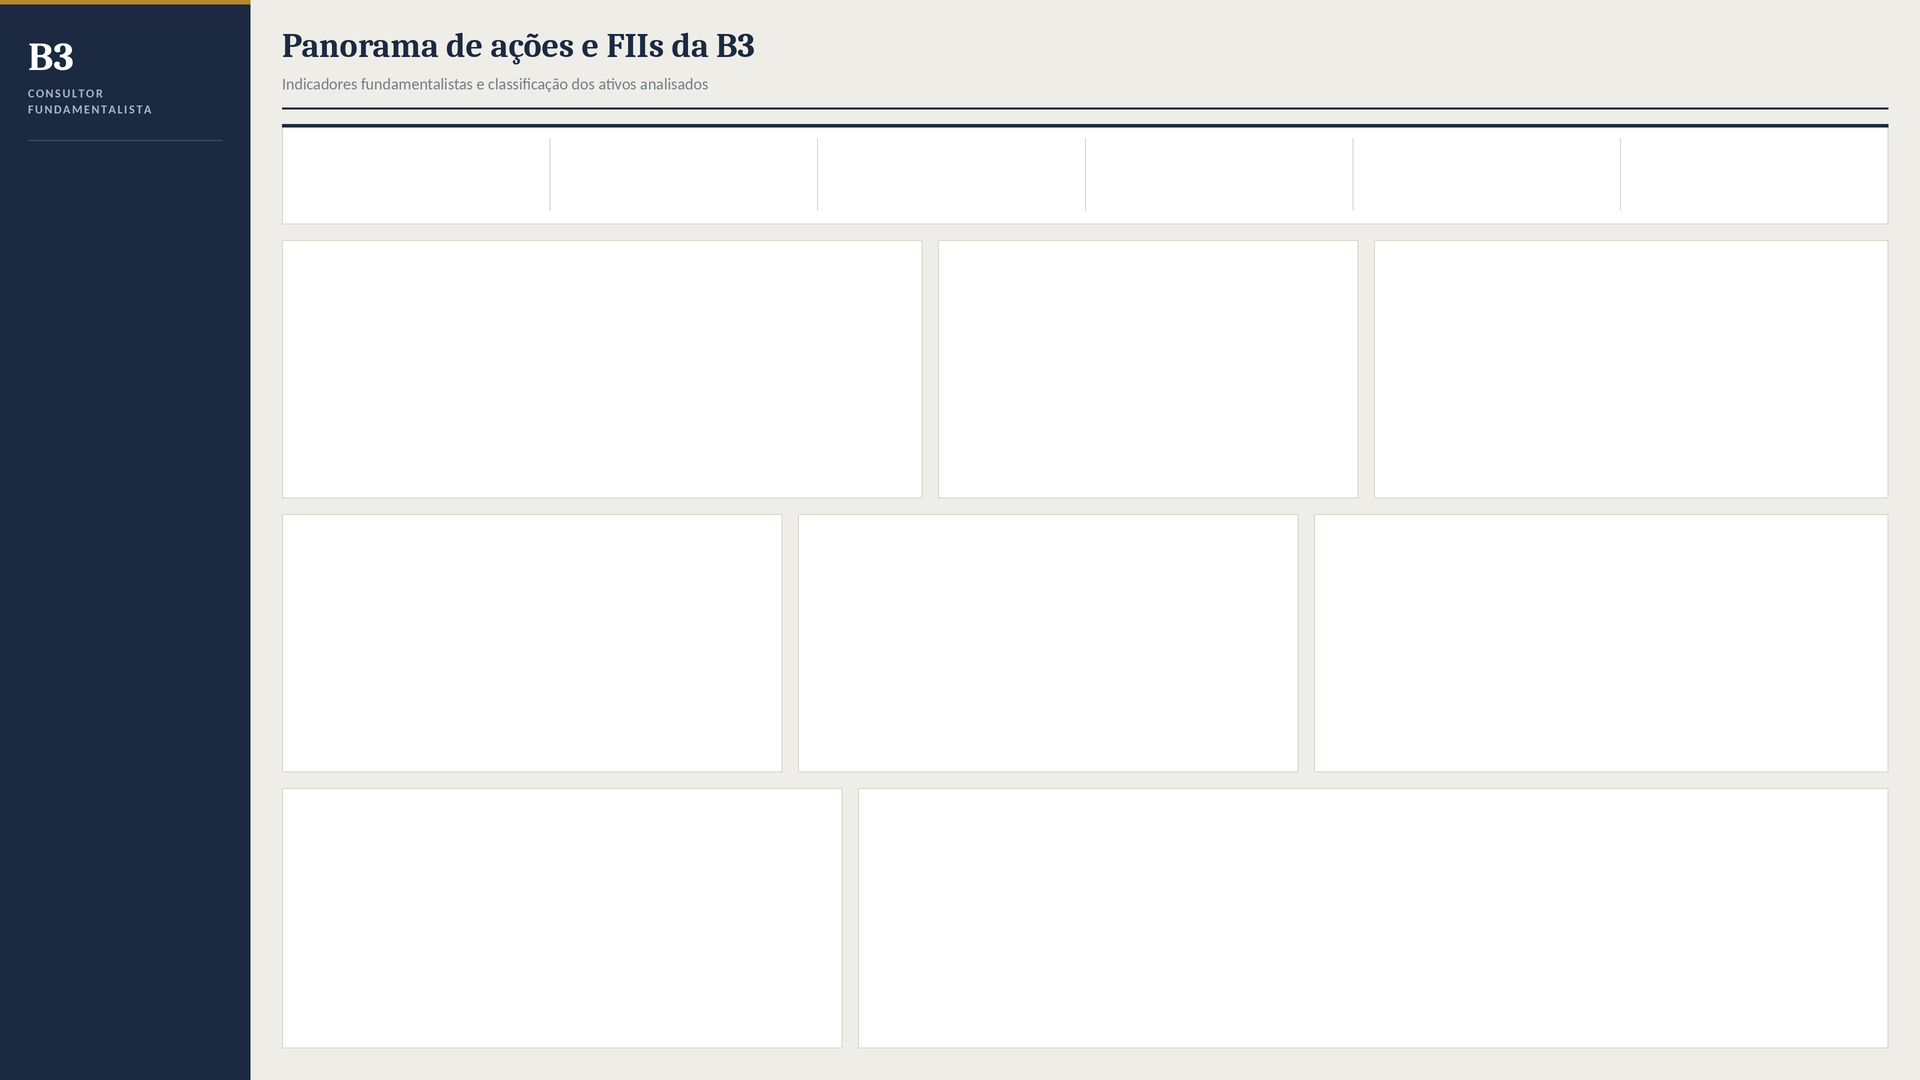

What the dashboard file says about the page in this screenshot:
{"tool":"powerbi","page":{"name":"Página 1","canvas":[1920,1080],"ordinal":0},"visuals":[{"type":"cardVisual","fields":{"Data":["Dados_Atuais.Qtd Ativos"]},"box":[282,138,266,72],"z":0},{"type":"cardVisual","fields":{"Data":["Dados_Atuais.Qtd Oportunidades"]},"box":[548.5,137.7,267.5,71.7],"z":1000},{"type":"cardVisual","fields":{"Data":["Dados_Atuais.DY Medio"]},"box":[816.2,137.7,266,72],"z":2000},{"type":"cardVisual","fields":{"Data":["Dados_Atuais.PL Mediano"]},"box":[1082.1,136.9,271.4,71.4],"z":3000},{"type":"cardVisual","fields":{"Data":["Dados_Atuais.ROE Medio"]},"box":[1354,138.1,266,72],"z":4000},{"type":"cardVisual","fields":{"Data":["Dados_Atuais.Margem Media"]},"box":[1620.4,136.3,266,72],"z":5000},{"type":"clusteredColumnChart","title":"Maiores dividend yields\t","fields":{"Category":["Dados_Atuais.Ticker"],"Y":["Dados_Atuais.DY Medio"]},"box":[288,247,627,244],"z":6000},{"type":"donutChart","title":"Ações e FIIs","fields":{"Category":["Dados_Atuais.Tipo_Ativo"],"Y":["Dados_Atuais.Qtd Ativos"]},"box":[945,247,406,244],"z":7000},{"type":"lineClusteredColumnComboChart","title":"Ativos por classificação","fields":{"Category":["Dados_Atuais.Classificacao"],"Y":["Dados_Atuais.Qtd Ativos"]},"box":[1382.1,246.2,505.1,243.6],"z":8000},{"type":"scatterChart","title":"Barato e rentável","fields":{"Category":["Dados_Atuais.Ticker"],"Series":["Dados_Atuais.Classificacao"],"X":["Sum(Dados_Atuais.P_L)"],"Y":["Sum(Dados_Atuais.ROE_Porcento)"]},"box":[288,521,487,244],"z":9000},{"type":"clusteredBarChart","title":"Maiores ROEs","fields":{"Category":["Dados_Atuais.Ticker"],"Y":["Dados_Atuais.ROE Medio"]},"box":[805,521,486,244],"z":10000},{"type":"scatterChart","title":"FIIs: preço x rendimento","fields":{"Category":["Dados_Atuais.Ticker"],"X":["Sum(Dados_Atuais.P_VPA)"],"Y":["Sum(Dados_Atuais.Dividend_Yield_Porcento)"]},"box":[1321,521,560,244],"z":11000},{"type":"lineChart","title":"Dividend yield médio no tempo","fields":{"Category":["Historico.Data_Analise"],"Y":["Dados_Atuais.DY Medio Hist"]},"box":[288,795,547,246],"z":12000},{"type":"tableEx","title":"Todos os ativos","fields":{"Values":["Dados_Atuais.Ticker","Dados_Atuais.Empresa","Dados_Atuais.Tipo_Ativo","Dados_Atuais.Preco_Atual","Sum(Dados_Atuais.P_L)","Dados_Atuais.Dividend_Yield_Porcento","Dados_Atuais.P_VPA","Dados_Atuais.Status_Consultor","Sum(Dados_Atuais.ROE_Porcento)"]},"box":[861.5,794.2,1026.9,246.2],"z":13000},{"type":"slicer","fields":{"Values":["Dados_Atuais.Tipo_Ativo"]},"box":[19.2,209.6,205,55],"z":14000},{"type":"textbox","box":[19.7,172.1,204.9,37.7],"z":15000},{"type":"textbox","box":[20,264.4,204.4,40],"z":16000},{"type":"textbox","box":[19.7,550.8,204.9,37.7],"z":17000},{"type":"slicer","fields":{"Values":["Dados_Atuais.Ticker"]},"box":[19.6,589.3,205,55],"z":18000},{"type":"slicer","fields":{"Values":["Dados_Atuais.Empresa"]},"box":[19.7,662.3,205,55],"z":19000},{"type":"textbox","box":[19.7,642.6,206.6,39.3],"z":20000},{"type":"slicer","fields":{"Values":["Dados_Atuais.Classificacao"]},"box":[19.7,285.2,206.6,254.1],"z":21000}]}

Visuals, with their boxes in screenshot pixels (x1, y1, x2, y2), scaled from the page's 1920x1080 canvas onto the 1920x1080 screenshot:
cardVisual - Dados_Atuais.Qtd Ativos: box=[282, 138, 548, 210]
cardVisual - Dados_Atuais.Qtd Oportunidades: box=[548, 138, 816, 209]
cardVisual - Dados_Atuais.DY Medio: box=[816, 138, 1082, 210]
cardVisual - Dados_Atuais.PL Mediano: box=[1082, 137, 1354, 208]
cardVisual - Dados_Atuais.ROE Medio: box=[1354, 138, 1620, 210]
cardVisual - Dados_Atuais.Margem Media: box=[1620, 136, 1886, 208]
"Maiores dividend yields	" clusteredColumnChart: box=[288, 247, 915, 491]
"Ações e FIIs" donutChart: box=[945, 247, 1351, 491]
"Ativos por classificação" lineClusteredColumnComboChart: box=[1382, 246, 1887, 490]
"Barato e rentável" scatterChart: box=[288, 521, 775, 765]
"Maiores ROEs" clusteredBarChart: box=[805, 521, 1291, 765]
"FIIs: preço x rendimento" scatterChart: box=[1321, 521, 1881, 765]
"Dividend yield médio no tempo" lineChart: box=[288, 795, 835, 1041]
"Todos os ativos" tableEx: box=[862, 794, 1888, 1040]
slicer - Dados_Atuais.Tipo_Ativo: box=[19, 210, 224, 265]
textbox: box=[20, 172, 225, 210]
textbox: box=[20, 264, 224, 304]
textbox: box=[20, 551, 225, 588]
slicer - Dados_Atuais.Ticker: box=[20, 589, 225, 644]
slicer - Dados_Atuais.Empresa: box=[20, 662, 225, 717]
textbox: box=[20, 643, 226, 682]
slicer - Dados_Atuais.Classificacao: box=[20, 285, 226, 539]
